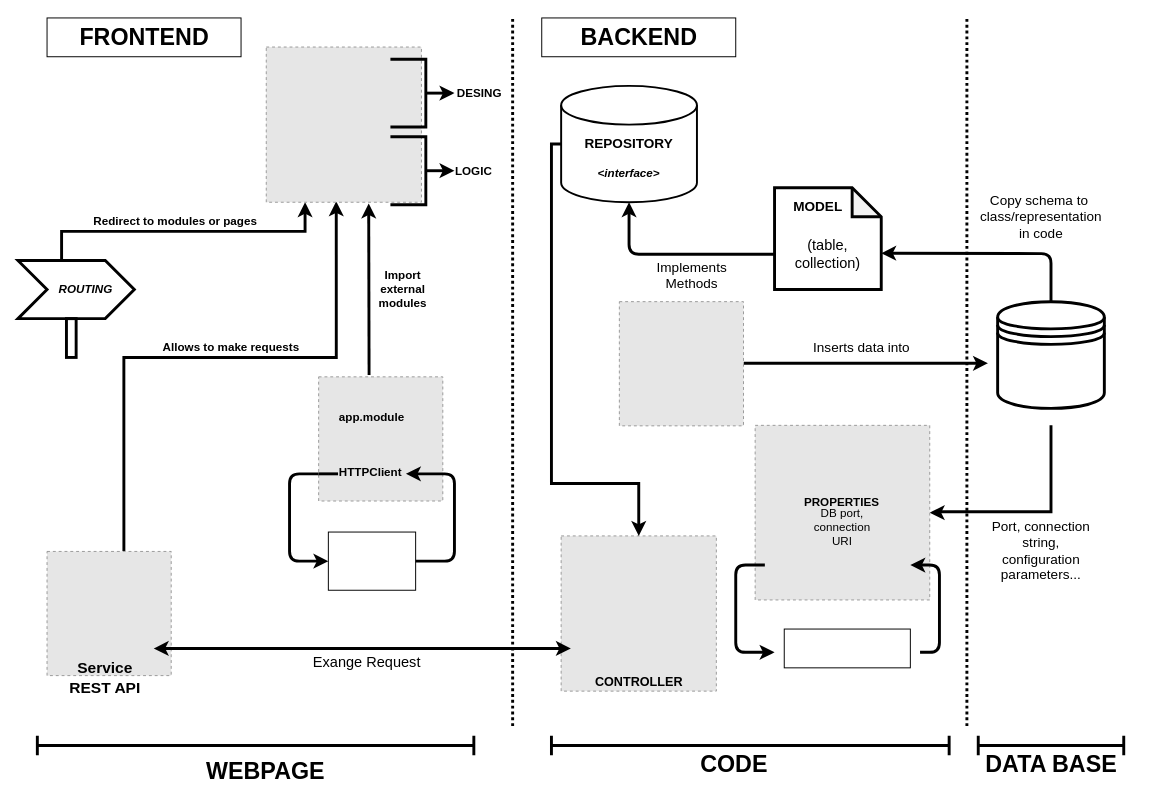
Image size: 1150x808. Some labels were removed from this diagram. Grey dashed boxes stand in for pictures. The shapes that lost their labels are listed below. From the top down, each one's centre as x and y in pixels, then its label:
At point (371, 560): "To generate the request: Get, Post, etc.".
At point (846, 648): "Might need API properties".
